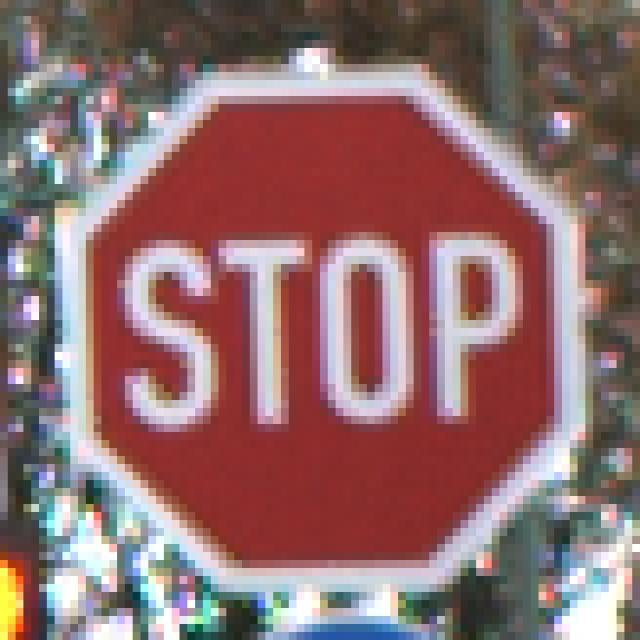stop: (65, 67, 589, 595)
